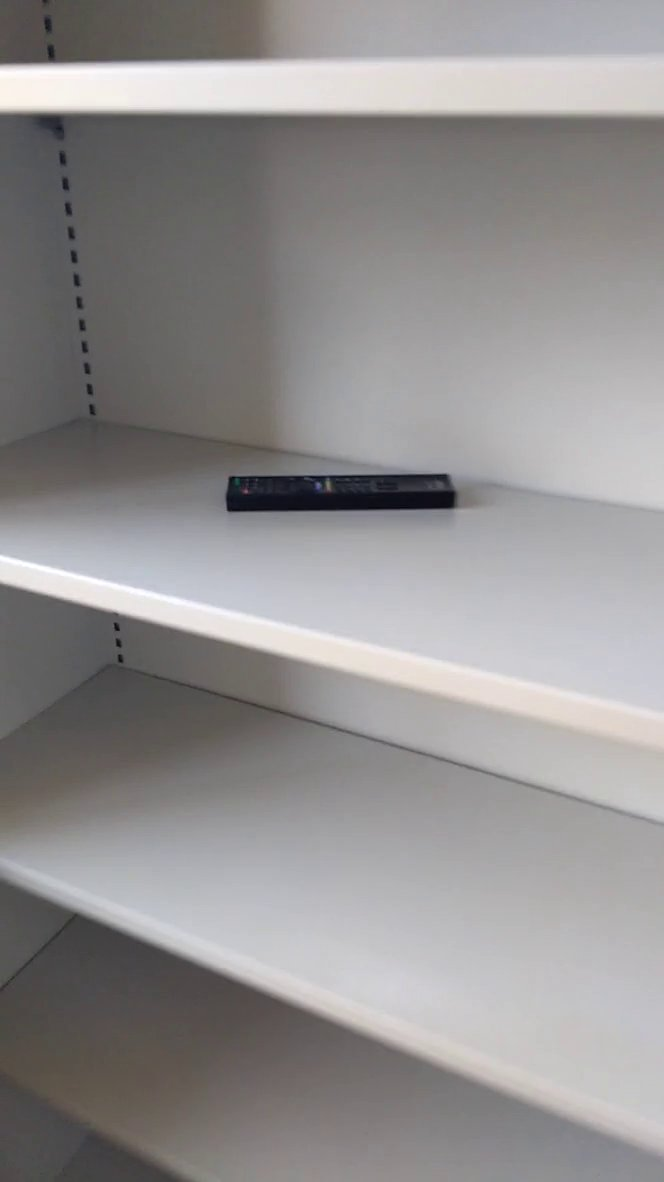remote: (218, 458, 466, 542)
